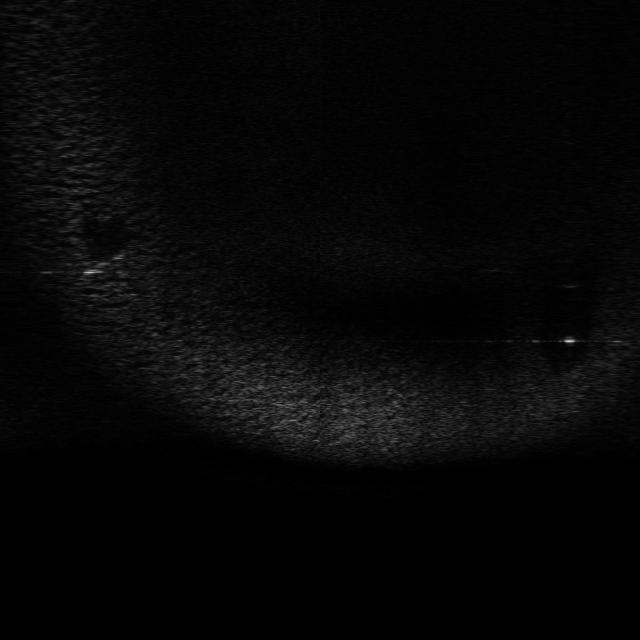plane: (78, 250, 130, 278)
